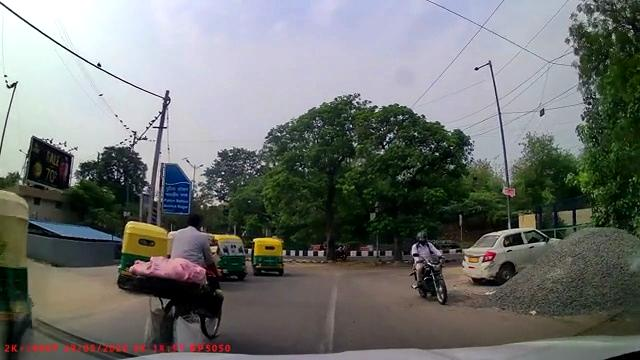motorcycle_with_helmet: (409, 228, 450, 305)
